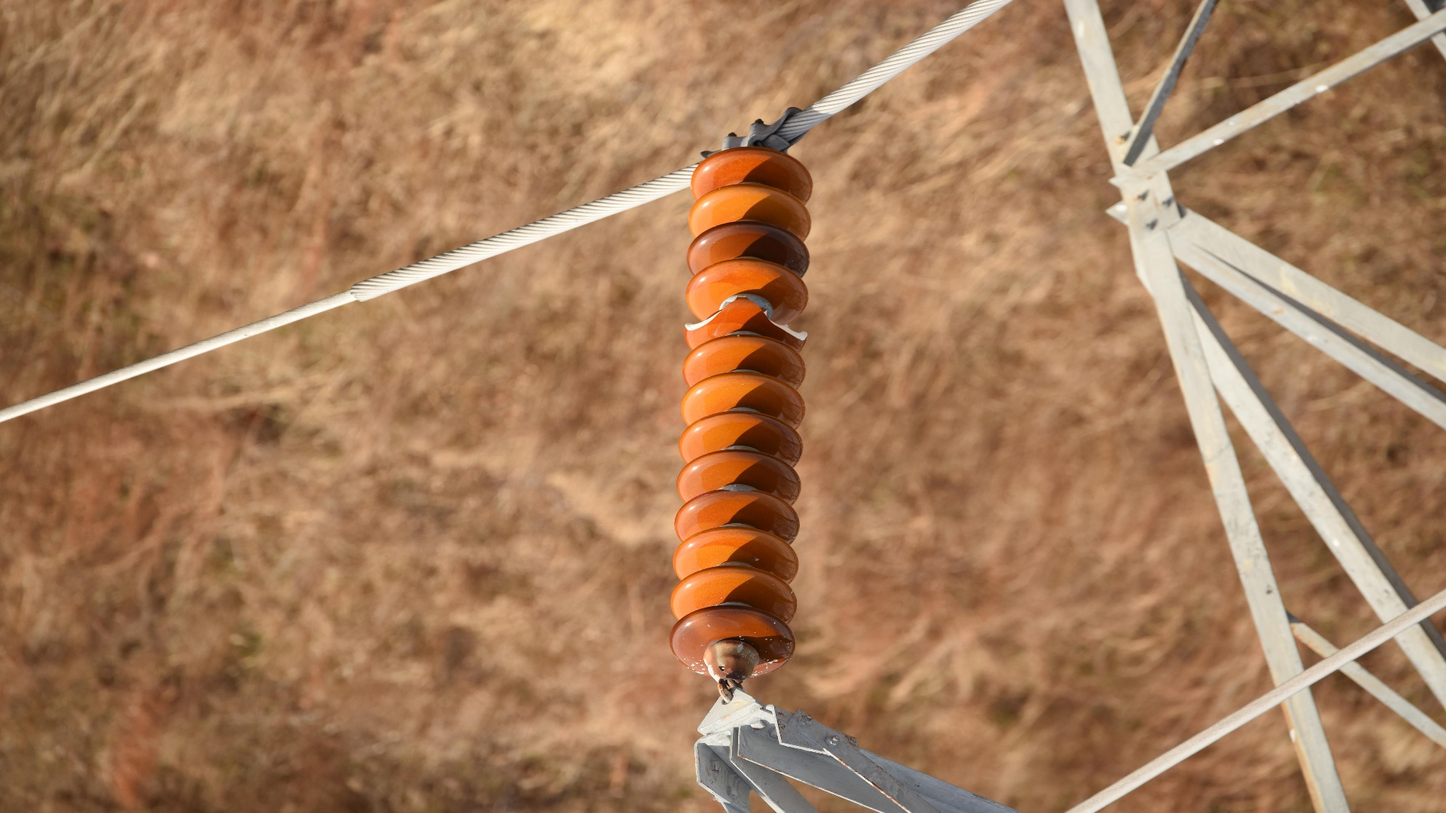insulator: (664, 144, 816, 687)
insulator_breakage: (752, 300, 812, 347), (682, 294, 743, 334)
